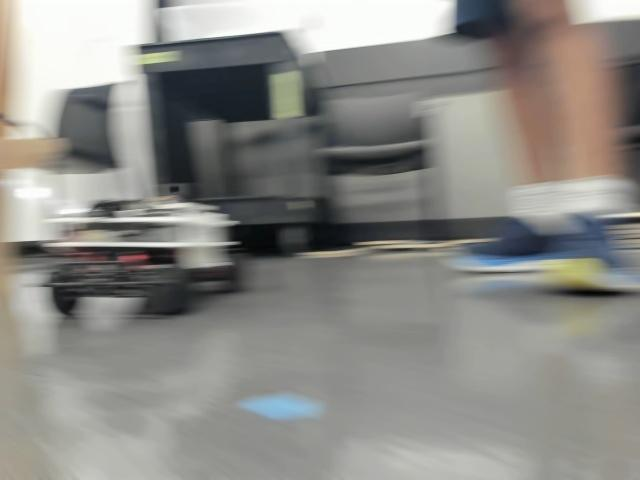Car: (44, 181, 240, 312)
